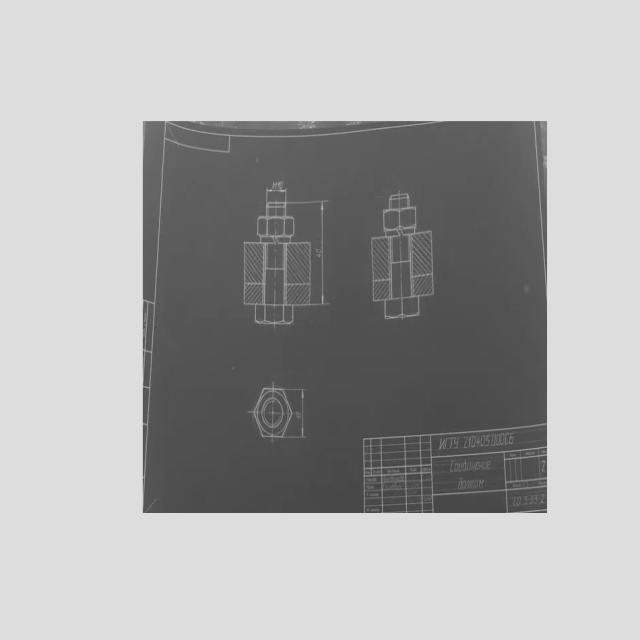marking_line: (321, 201, 325, 305), (301, 391, 304, 437)
